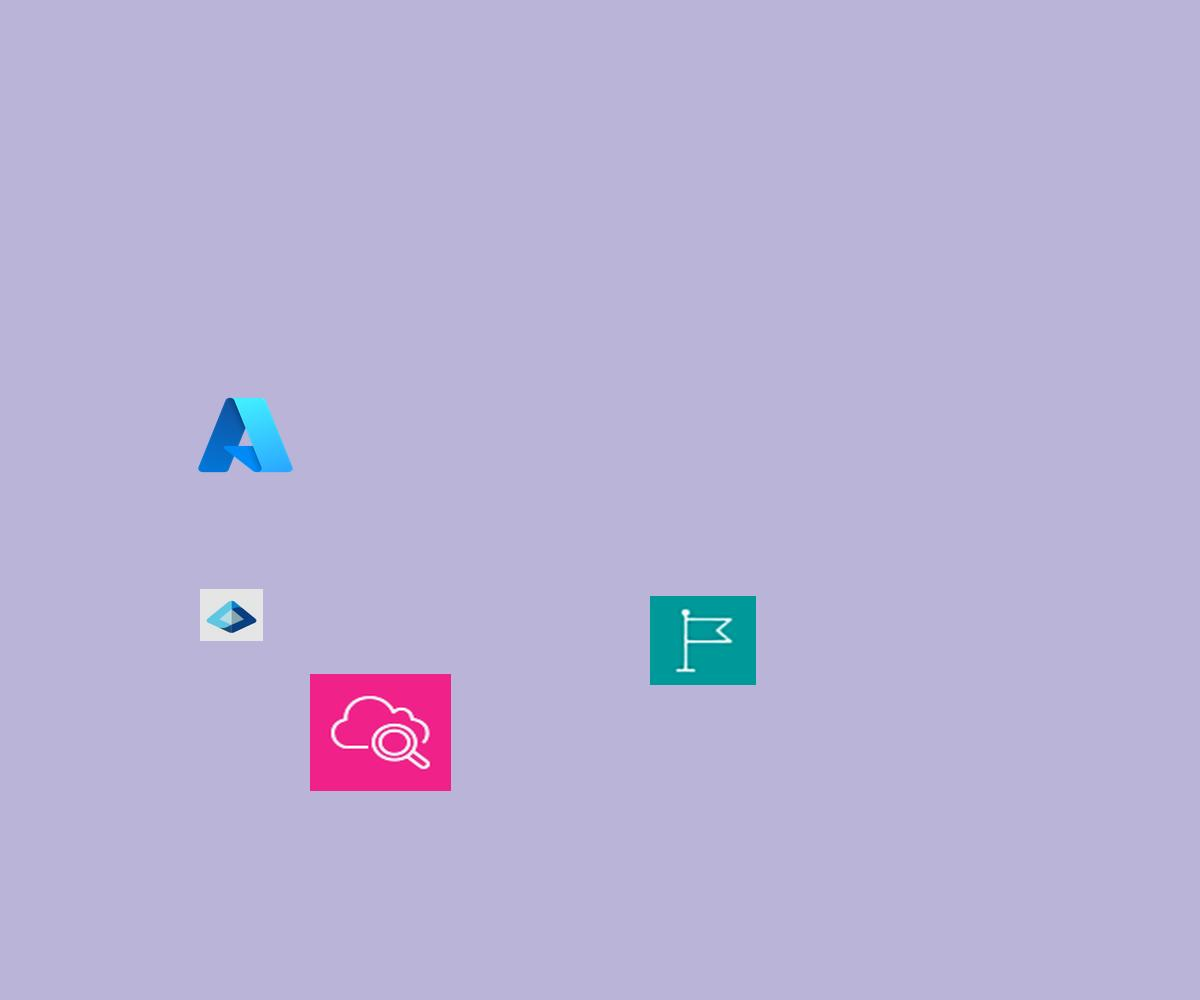AWS-CloudWatch: (310, 674, 451, 791)
AWS-Region: (650, 596, 756, 685)
Azure_microsoft_entra: (200, 589, 263, 641)
Azure_services: (194, 392, 297, 478)
